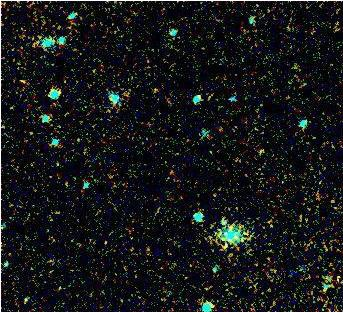star: (211, 232, 241, 262)
